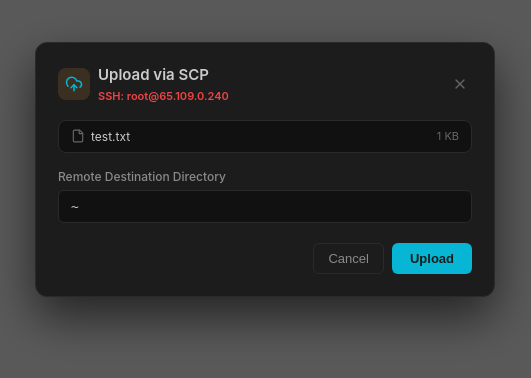
Test: ScpUploadOverlay › displays error if upload fails
Step 1. Click the button "Upload" → (432, 258), box top-left (392, 242), bottom-right (472, 274)
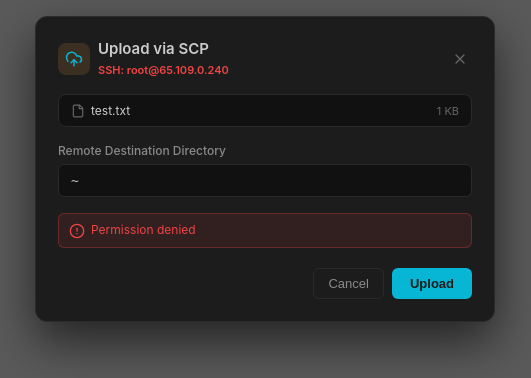
Now the text "Permission denied" is shown, box top-left (91, 222), bottom-right (196, 239)
